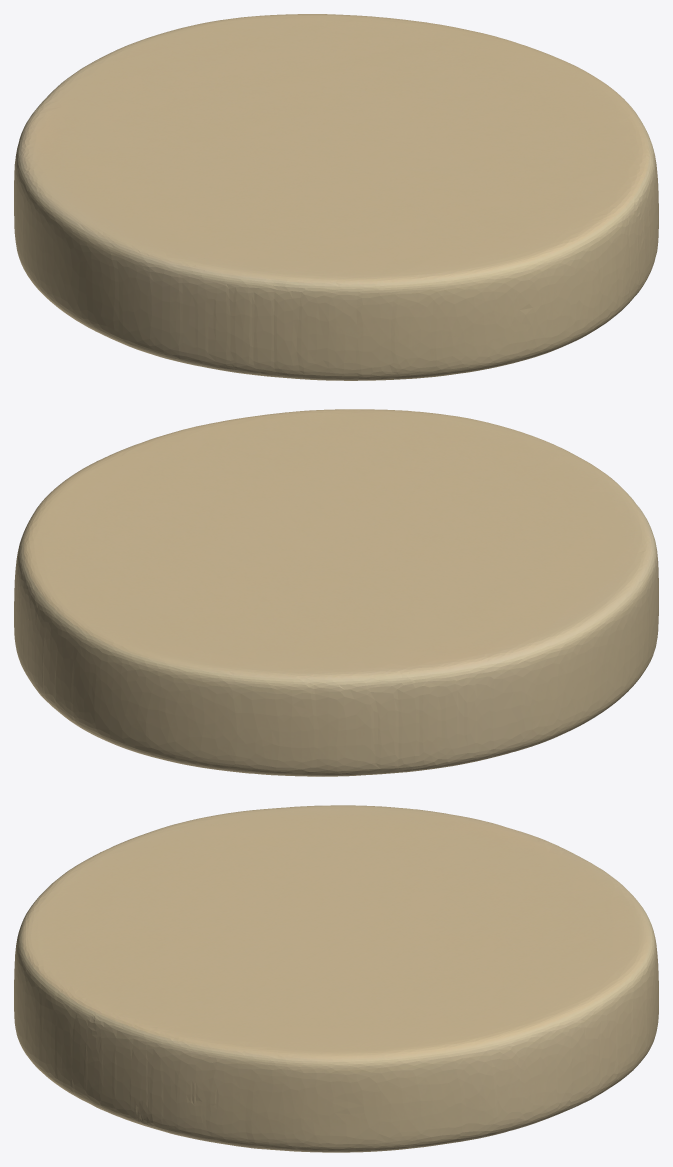
The model's file is stone.glb.
3 views of the same model, one above another, from view 1: azimuth 30°, elevation 25°; view 2: azimuth 150°, elevation 25°; view 3: azimuth 270°, elevation 25° (orthographic). The views are drawn at different scales.
Parts seen in each view (by area): view 1: tmp6ypfa3bm.ply; view 2: tmp6ypfa3bm.ply; view 3: tmp6ypfa3bm.ply.
Part boxes in pixels (x1,y1,x2,y2): tmp6ypfa3bm.ply: (14, 14, 658, 380); tmp6ypfa3bm.ply: (14, 409, 658, 776); tmp6ypfa3bm.ply: (14, 805, 658, 1152).
Bounding box in the file's own units: 1.9 × 0.3394 × 1.99.
Materials: 1 (1 with a texture image).
